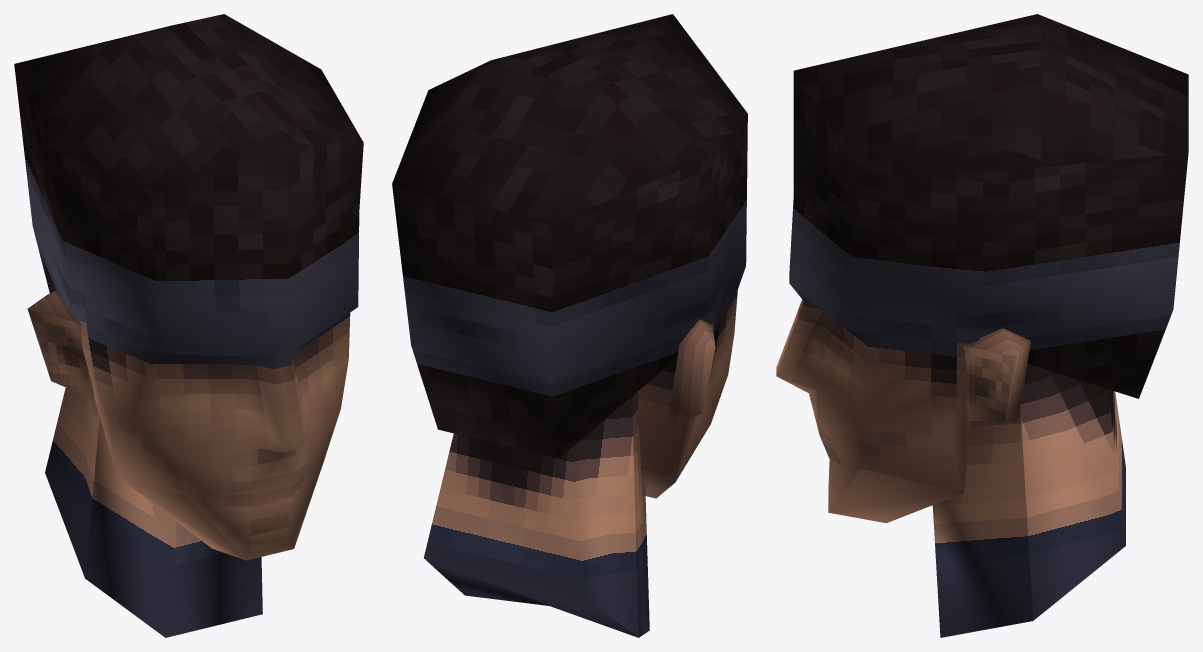
Rendered from snake.glb.
3 views of the same model, side by side, from view 1: azimuth 30°, elevation 25°; view 2: azimuth 150°, elevation 25°; view 3: azimuth 270°, elevation 25° (orthographic). The views are drawn at different scales.
Visible parts, largest first — view 1: snake; view 2: snake; view 3: snake.
Boxes of the visible parts, box(x1,y1,x2,y2) form: snake: box(14, 14, 363, 637); snake: box(392, 14, 747, 637); snake: box(776, 14, 1188, 637).
Bounding box in the file's own units: 8.45 × 15.1 × 9.84.
8 materials, 8 textured.
